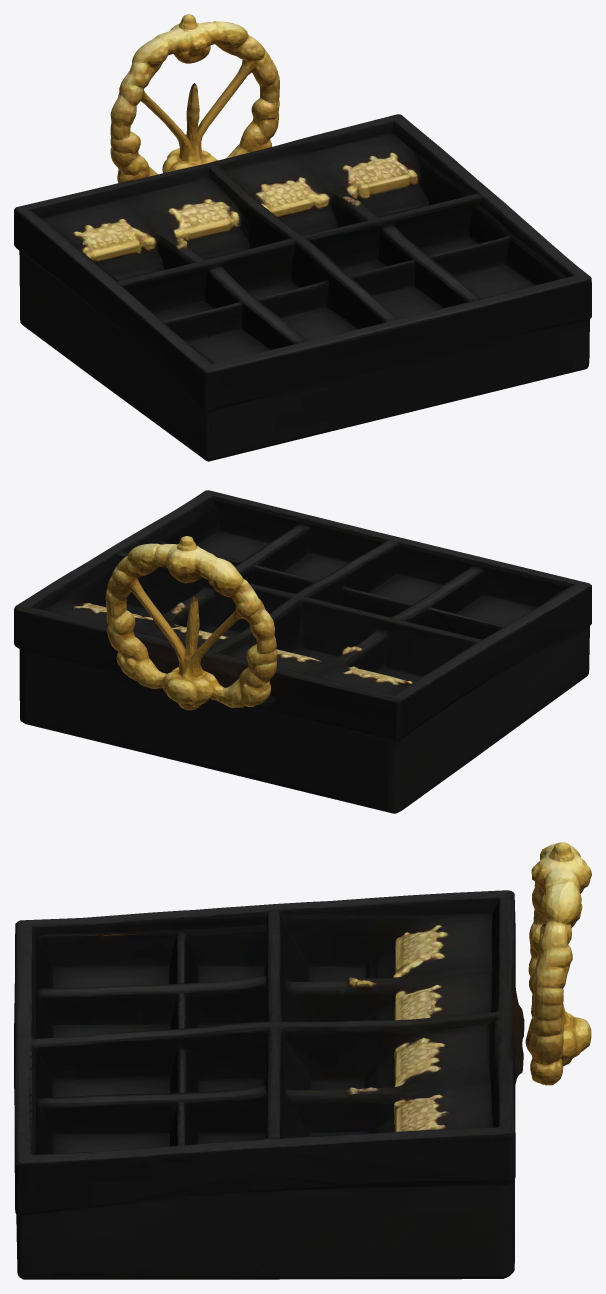
The model's file is black_jewelry_display_tray_2.glb.
The picture shows the model from 3 angles, top to bottom: view 1: azimuth 30°, elevation 25°; view 2: azimuth 150°, elevation 25°; view 3: azimuth 270°, elevation 25°; orthographic projection. The views are drawn at different scales.
Visible parts, largest first — view 1: geometry_0; view 2: geometry_0; view 3: geometry_0.
Part boxes in pixels (left/top/right/bottom): geometry_0: left=14, top=14, right=591, bottom=461; geometry_0: left=14, top=490, right=591, bottom=813; geometry_0: left=14, top=842, right=591, bottom=1279.
Bounding box in the file's own units: 0.9884 × 0.6056 × 0.9897.
Materials: 1 (1 with a texture image).
